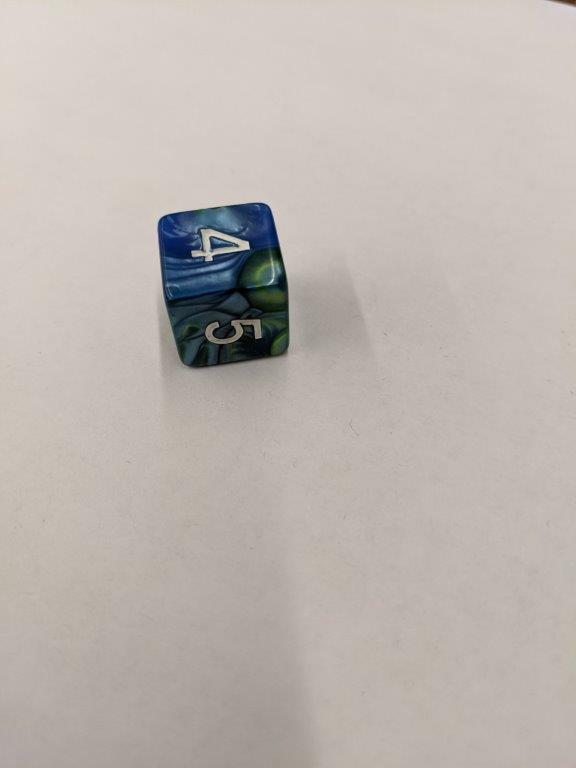d6-4: (157, 199, 292, 370)
